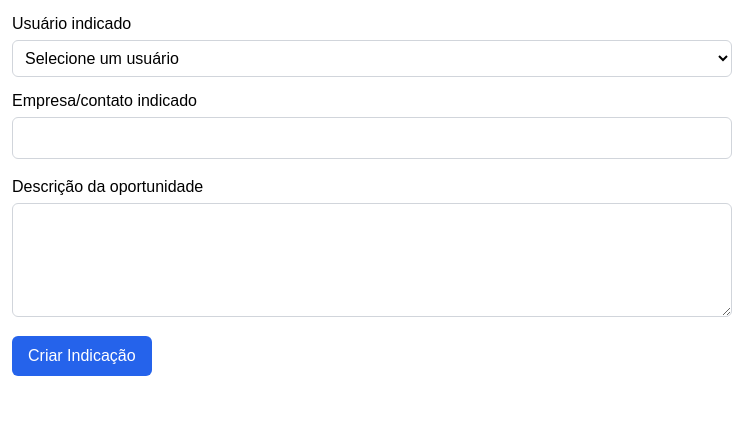
Test: IndicationForm › valida campos obrigatórios e envia indicação
Select "Maria (maria@example.com)" in the dropdown labelled "Usuário indicado". click: (372, 58)
box: [12,40,732,77]
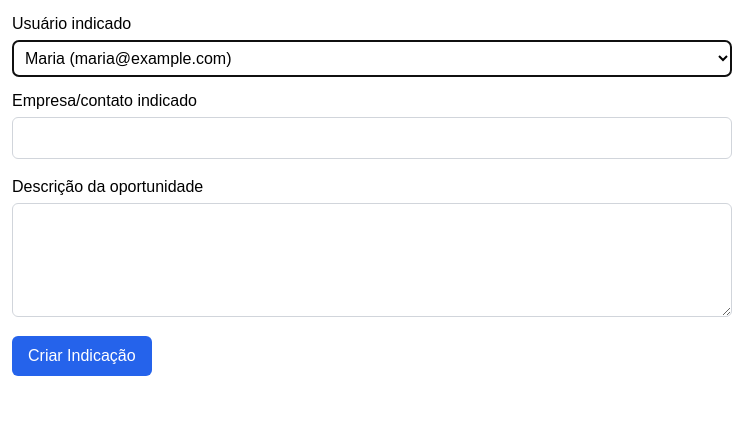
Type "Empresa XYZ" into the field labelled "Empresa/contato indicado". click: (372, 138)
box: [12,117,732,159]
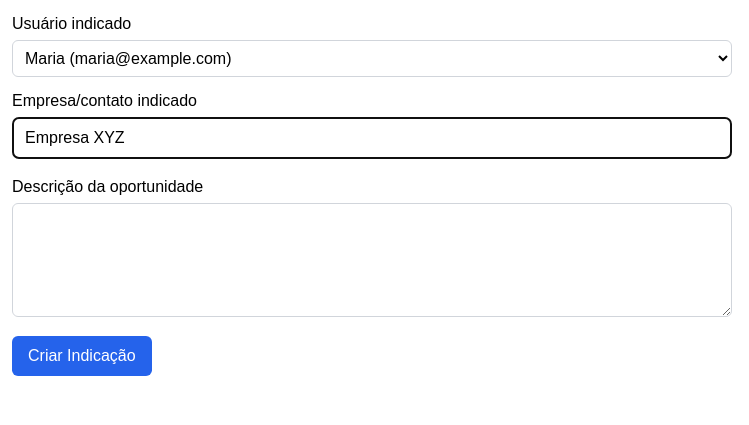
Type "Descrição da oportunidade interessante." into the text box labelled "Descrição da oportunidade". click: (372, 260)
box: [12,203,732,317]
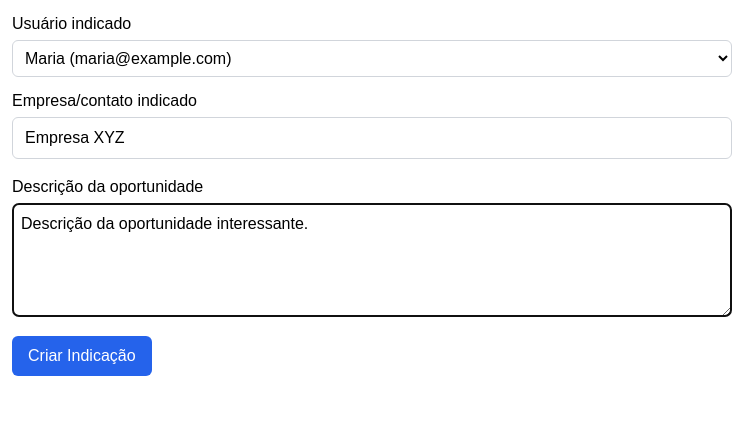
Click the button "Criar Indicação". click: (82, 356)
box: [12,336,152,376]
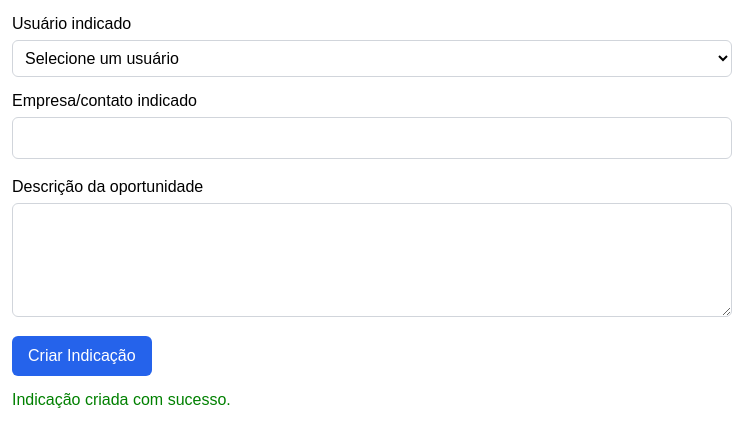
Check: the text "Indicação criada com sucesso." is shown, box [12,391,231,408]
